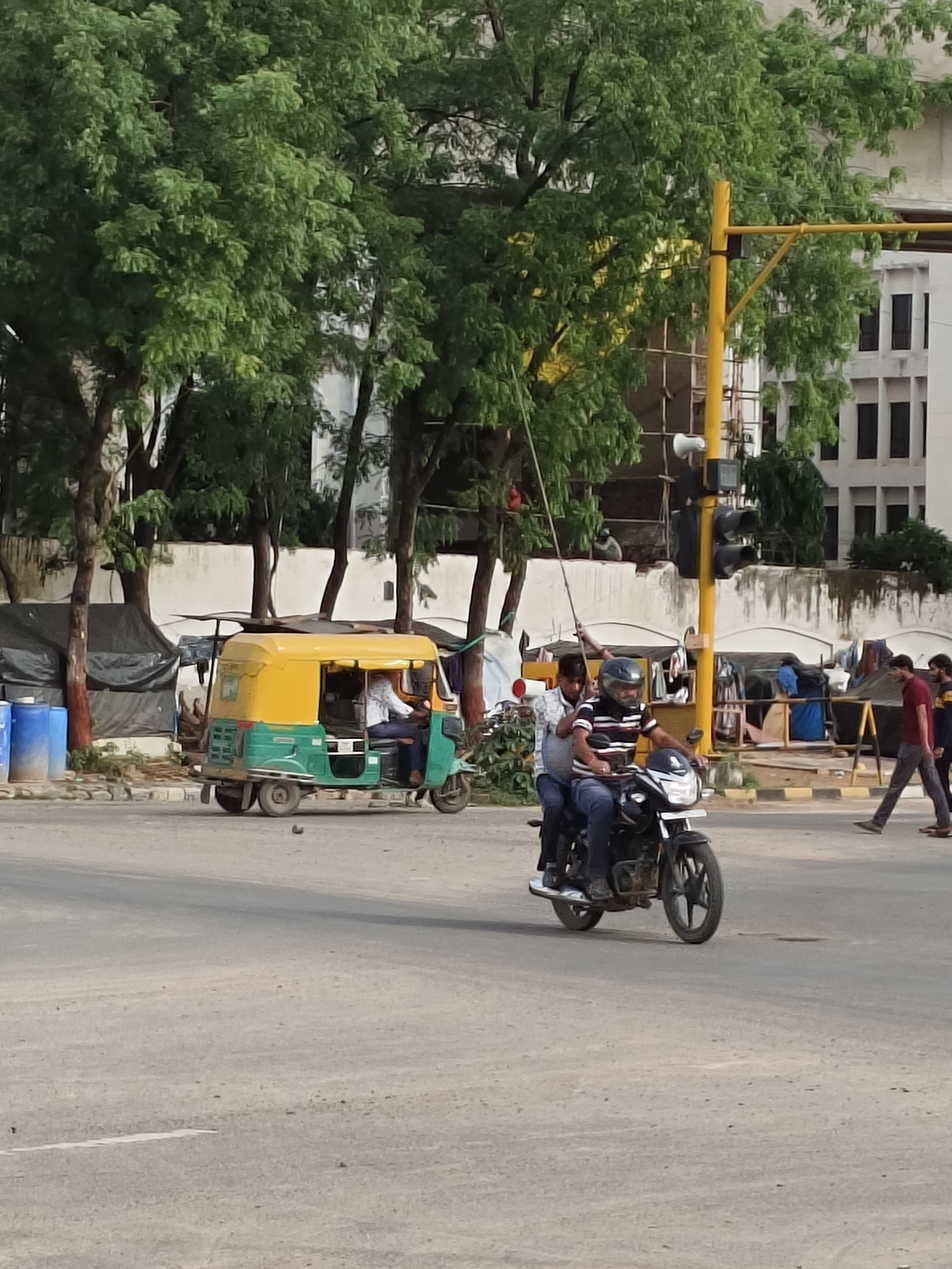BikeWithRider: (515, 643, 734, 952)
Helmet: (591, 652, 647, 714)
NoHelmet: (550, 647, 593, 700)
